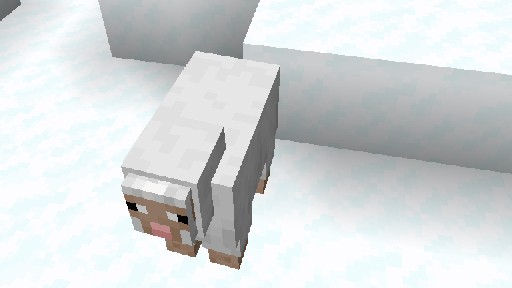sheep: (120, 50, 280, 278)
